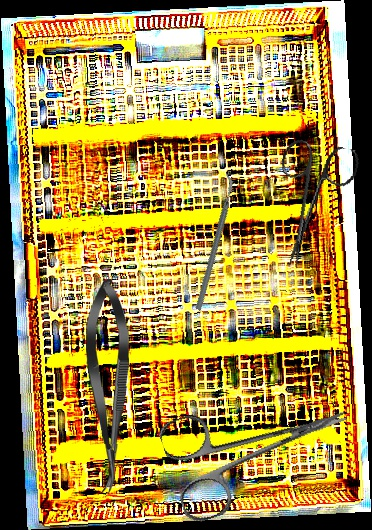Chopper: (149, 173, 278, 312)
Iris Scissors: (156, 369, 363, 526), (257, 133, 362, 278)
Micro Scissor: (84, 279, 132, 494)
